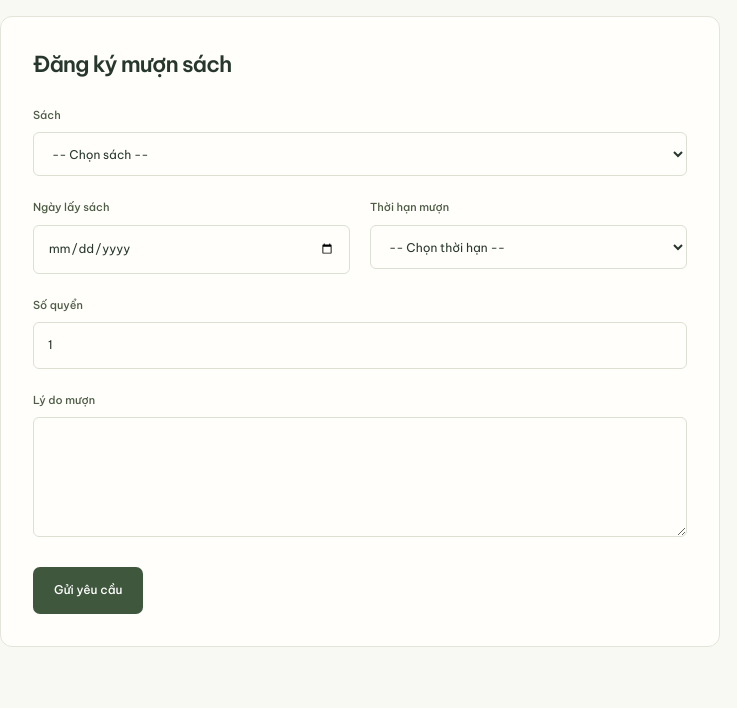
Test: hết bản hiển thị thông báo và giữ nguyên dữ liệu đã nhập
The image size is (737, 708).
In the text box labelled "Lý do mượn": {"x": 360, "y": 477} [33,417,687,537], type "Mượn phục vụ môn học"
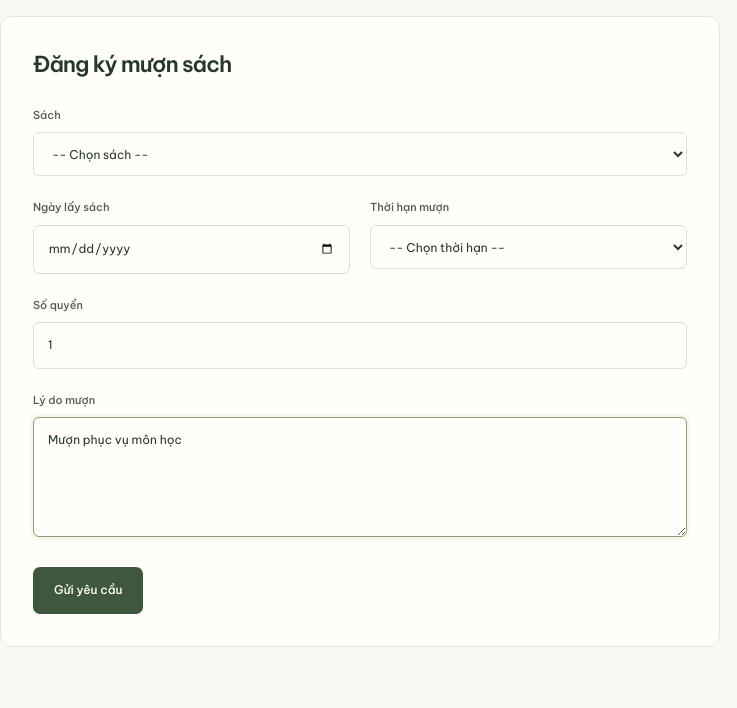
Click the button "Gửi yêu cầu": {"x": 88, "y": 590} [33,567,143,614]
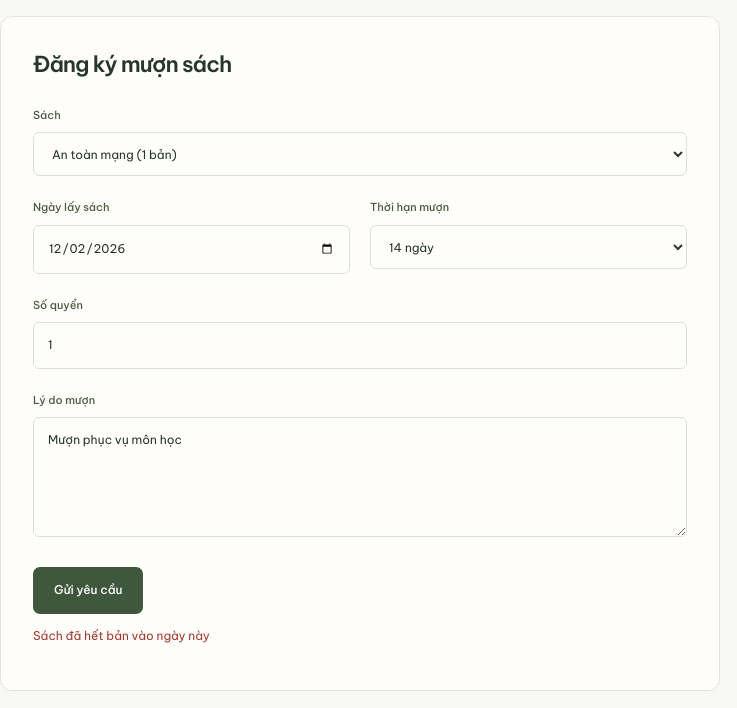
Result: the text box labelled "Lý do mượn" holds "Mượn phục vụ môn học" at [33,417,687,537]
Result: the message reads "Sách đã hết bản vào ngày này" at [33,628,210,642]
Result: the dropdown labelled "Sách" shows "An toàn mạng (1 bản)" at [33,132,687,176]
